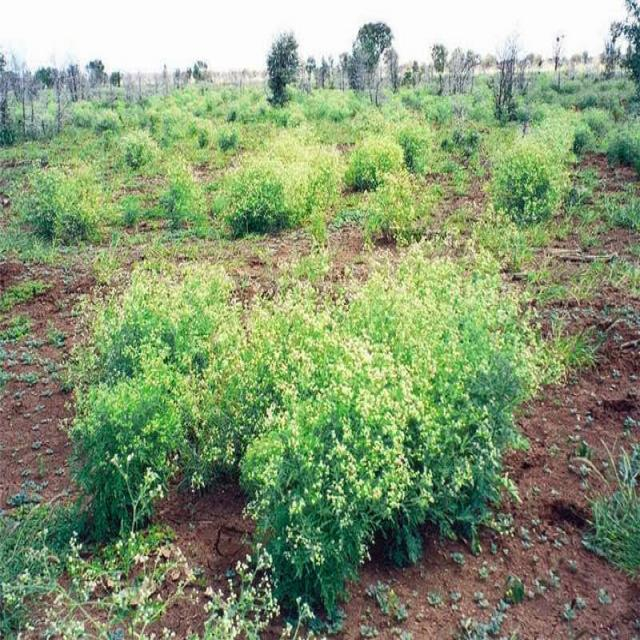Poisonous-Parthenium: (98, 287, 544, 559)
